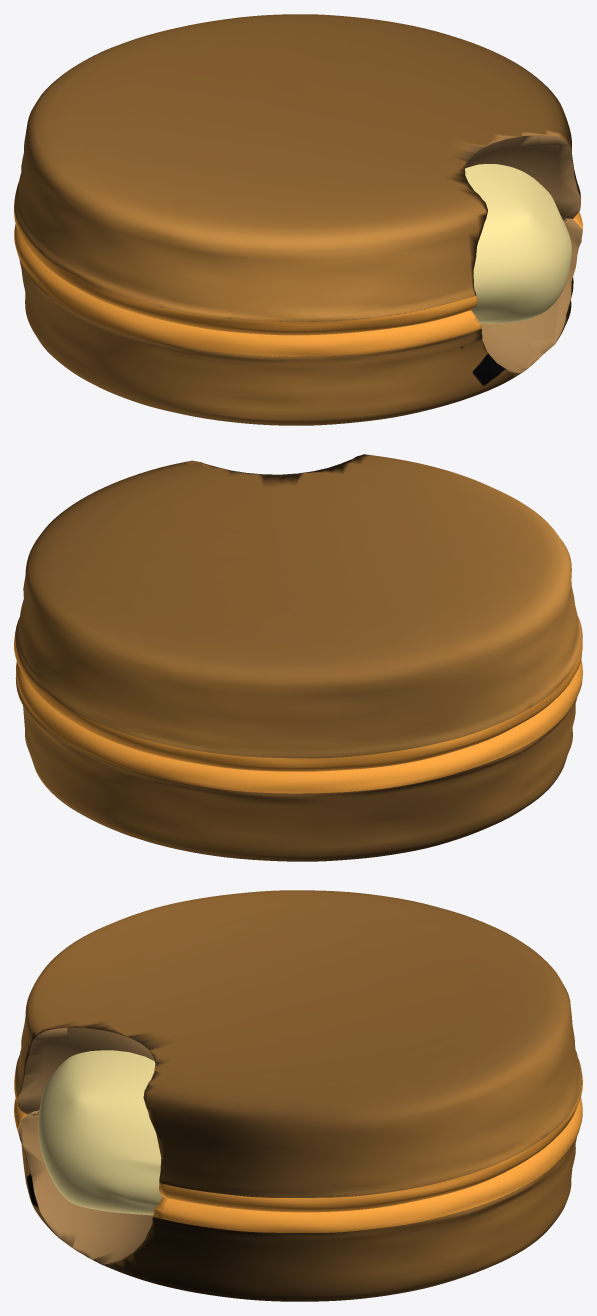
The model's file is butter2.glb.
3 views of the same model, one above another, from view 1: azimuth 30°, elevation 25°; view 2: azimuth 150°, elevation 25°; view 3: azimuth 270°, elevation 25° (orthographic).
Visible parts, largest first — view 1: Cylinder, Mball.002; view 2: Cylinder; view 3: Cylinder, Mball.002.
Part boxes in pixels (<box>): Cylinder: <box>14,14,582,425</box>; Mball.002: <box>465,164,571,323</box>; Cylinder: <box>14,454,582,861</box>; Cylinder: <box>14,890,582,1301</box>; Mball.002: <box>38,1050,162,1215</box>.
Size of the model in its own units: 5.71 by 2.24 by 5.72.
Materials: 4 (1 with a texture image).
